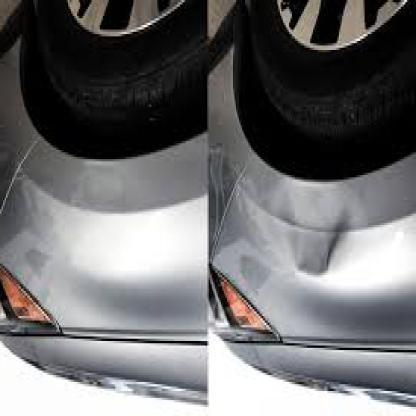dent: (284, 186, 346, 286)
